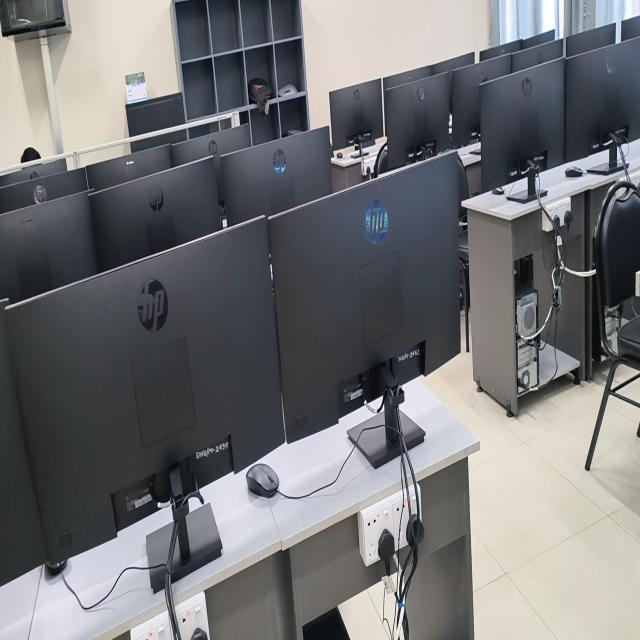Chair: (585, 181, 640, 471), (459, 212, 470, 351), (372, 143, 388, 177)
Cpu: (511, 269, 538, 394), (302, 607, 351, 639)
Monitor: (8, 219, 285, 590), (269, 151, 467, 467), (89, 159, 221, 271), (0, 300, 48, 585), (480, 59, 564, 192), (0, 191, 98, 302), (563, 37, 640, 172), (222, 129, 332, 223), (385, 71, 451, 169), (451, 55, 512, 148), (86, 145, 172, 190), (0, 169, 87, 213), (329, 79, 382, 150), (171, 124, 250, 165), (0, 159, 66, 187), (511, 40, 563, 72), (566, 24, 615, 56), (383, 66, 431, 91), (431, 52, 475, 79), (479, 40, 523, 60), (521, 28, 555, 49), (621, 16, 640, 41)
Mouse: (246, 463, 279, 496), (565, 166, 583, 177), (492, 186, 504, 195), (336, 152, 343, 158)
